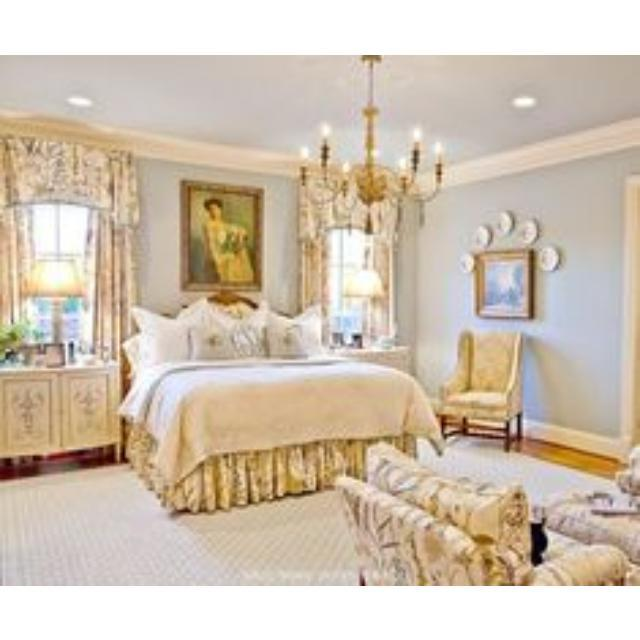bed: (120, 294, 441, 511)
chair: (337, 443, 640, 585), (441, 330, 523, 451)
curtain: (0, 120, 133, 363), (299, 158, 399, 343)
lamp: (34, 260, 85, 366), (344, 270, 384, 296)
rug: (0, 464, 356, 584), (436, 437, 614, 503)
wall-art: (184, 180, 263, 288), (460, 209, 565, 272), (477, 251, 533, 317)
